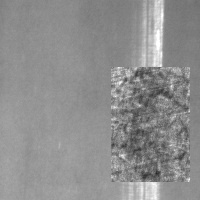crazing: (111, 67, 190, 182)
scratches: (134, 1, 163, 198)
